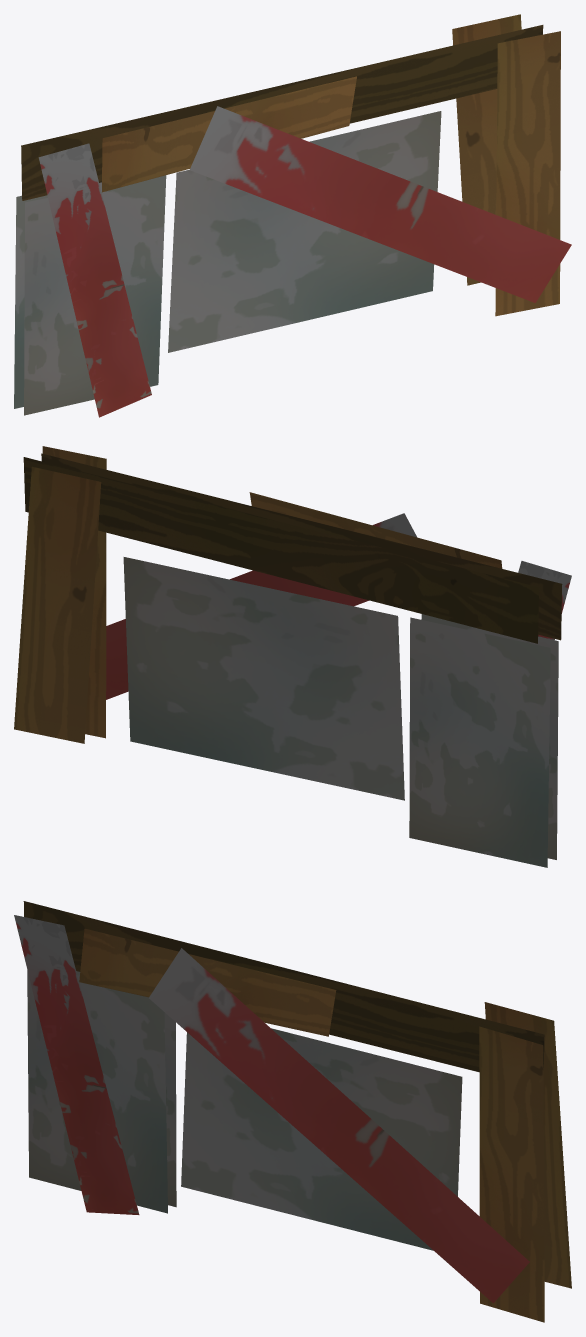
The model's file is obj_manmade_scrapwallSmall_lod1.fbx.
The picture shows the model from 3 angles, top to bottom: view 1: azimuth 30°, elevation 25°; view 2: azimuth 150°, elevation 25°; view 3: azimuth 330°, elevation 25°; orthographic projection.
Parts seen in each view (by area): view 1: obj_manmade_scrapwallSmall_lod1; view 2: obj_manmade_scrapwallSmall_lod1; view 3: obj_manmade_scrapwallSmall_lod1.
Part boxes in pixels (left/top/right/bottom): obj_manmade_scrapwallSmall_lod1: left=14, top=14, right=571, bottom=417; obj_manmade_scrapwallSmall_lod1: left=14, top=446, right=571, bottom=867; obj_manmade_scrapwallSmall_lod1: left=14, top=901, right=571, bottom=1322.
Size of the model in its own units: 8.05 by 4.31 by 1.05.
